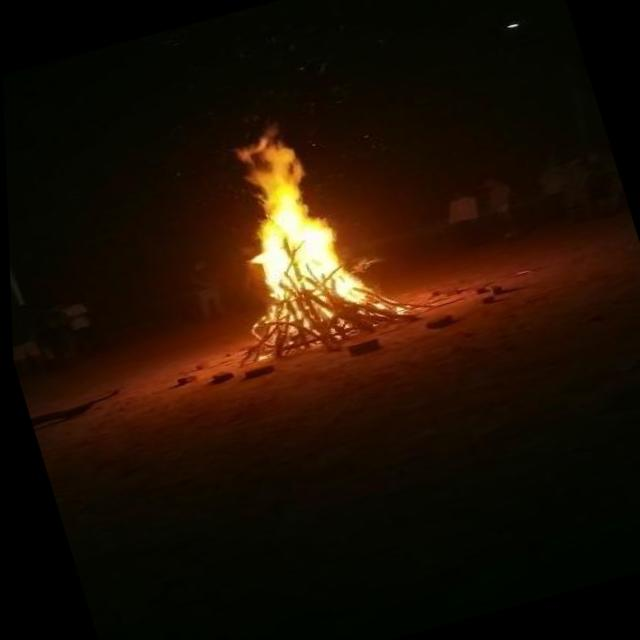fire: (174, 94, 400, 344)
